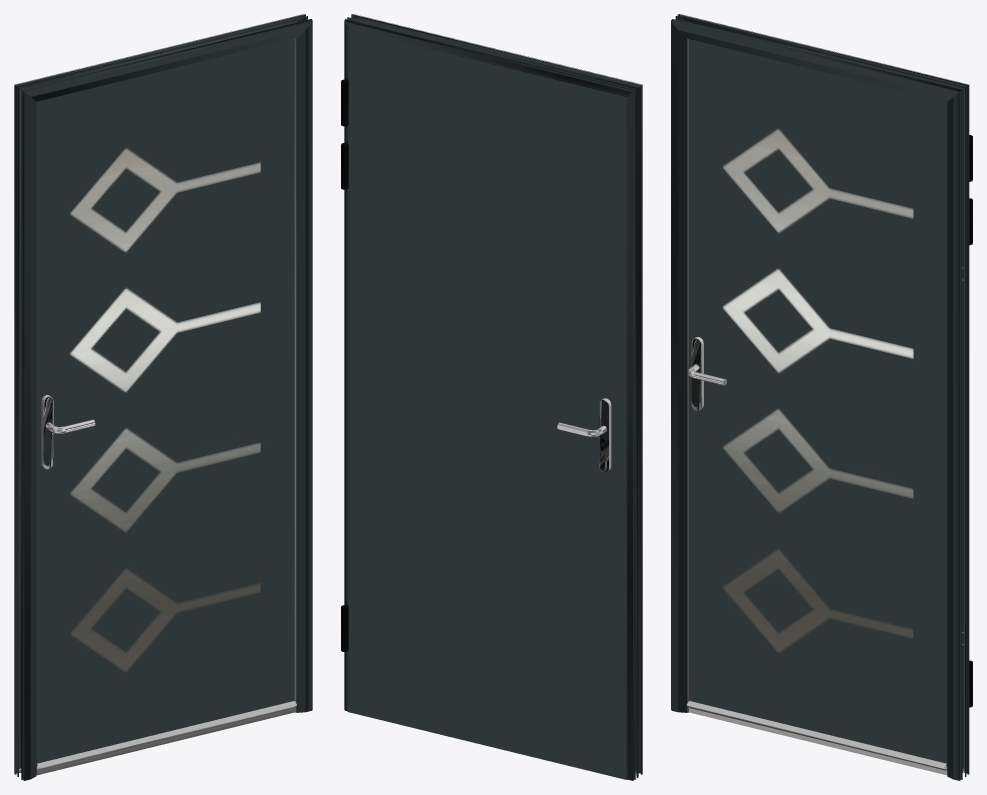
3 views of the same model, side by side, from view 1: azimuth 30°, elevation 25°; view 2: azimuth 150°, elevation 25°; view 3: azimuth 330°, elevation 25° (orthographic).
Parts seen in each view (by area): view 1: ouvrant, 50, puxador; view 2: ouvrant, 50, puxador; view 3: ouvrant, 50, puxador.
Part boxes in pixels (box(x1,y1,x2,y2)): ouvrant: box(19, 21, 297, 770); 50: box(14, 14, 312, 780); puxador: box(41, 395, 53, 469); ouvrant: box(341, 28, 627, 779); 50: box(341, 14, 642, 780); puxador: box(599, 398, 611, 472); ouvrant: box(685, 21, 972, 770); 50: box(671, 14, 972, 780); puxador: box(691, 337, 703, 410).
Bounding box in the file's own units: 96 × 218 × 19.09.
1 material, 1 textured.
